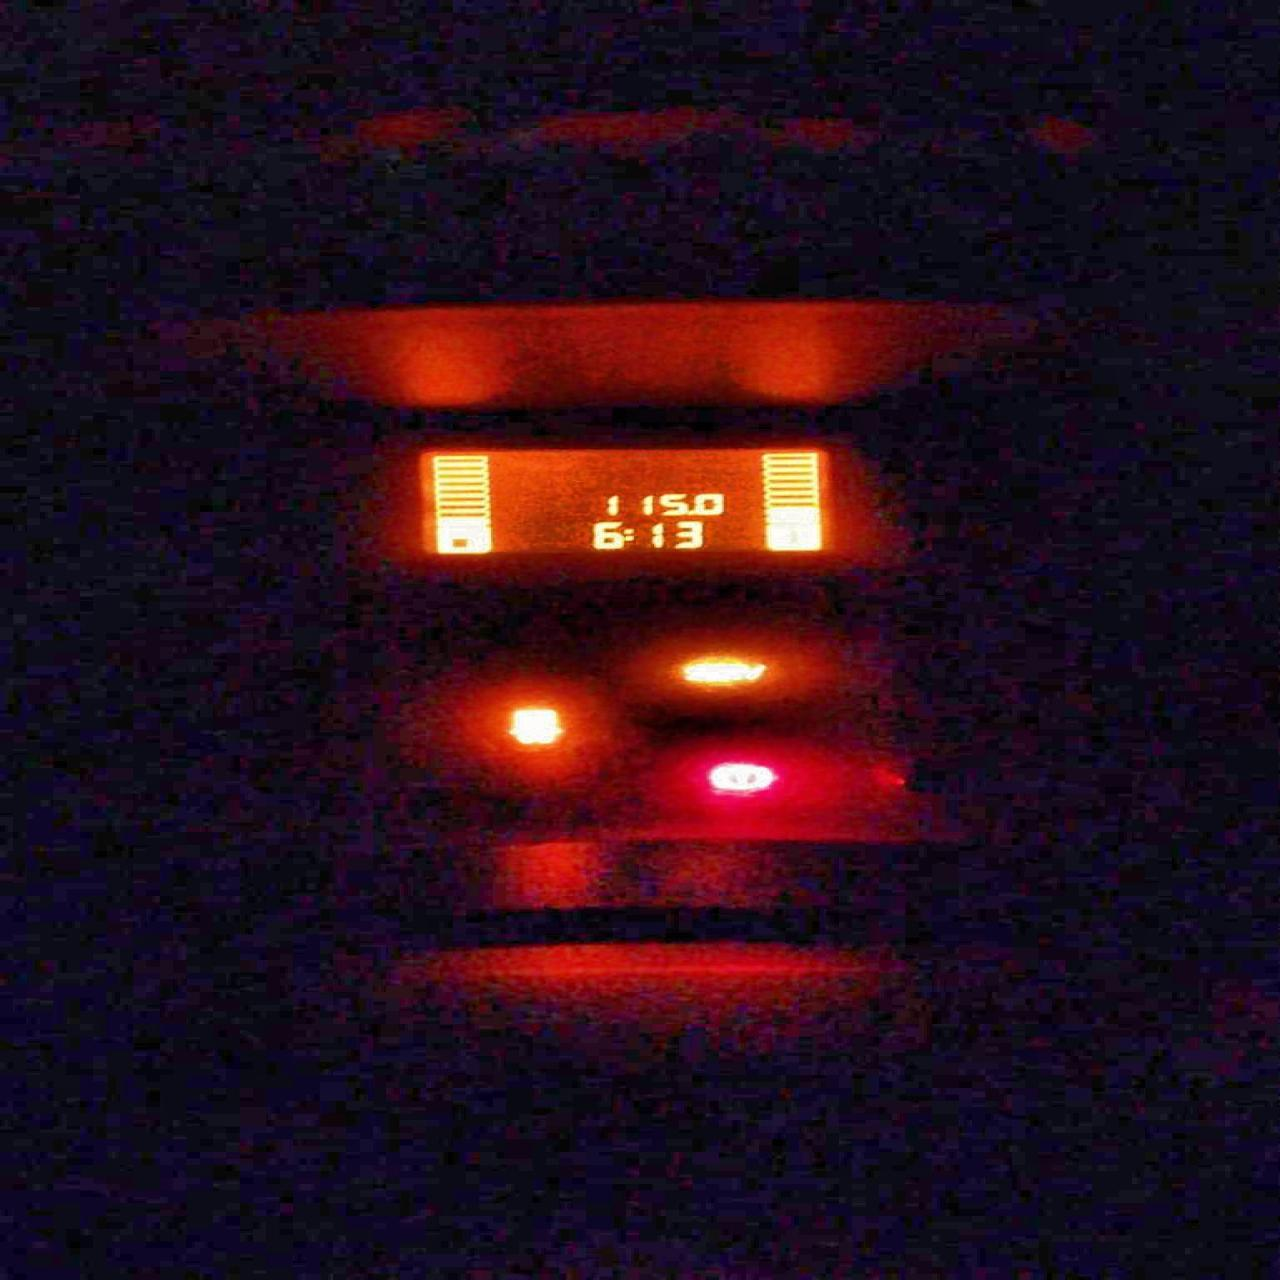-: (684, 509, 696, 515)
0: (692, 493, 724, 515)
1: (648, 522, 662, 548), (604, 494, 619, 516), (639, 494, 653, 516)
3: (671, 520, 702, 549)
5: (656, 492, 687, 515)
6: (589, 521, 623, 549)
X: (621, 528, 634, 541)
odometer: (414, 446, 836, 555)
